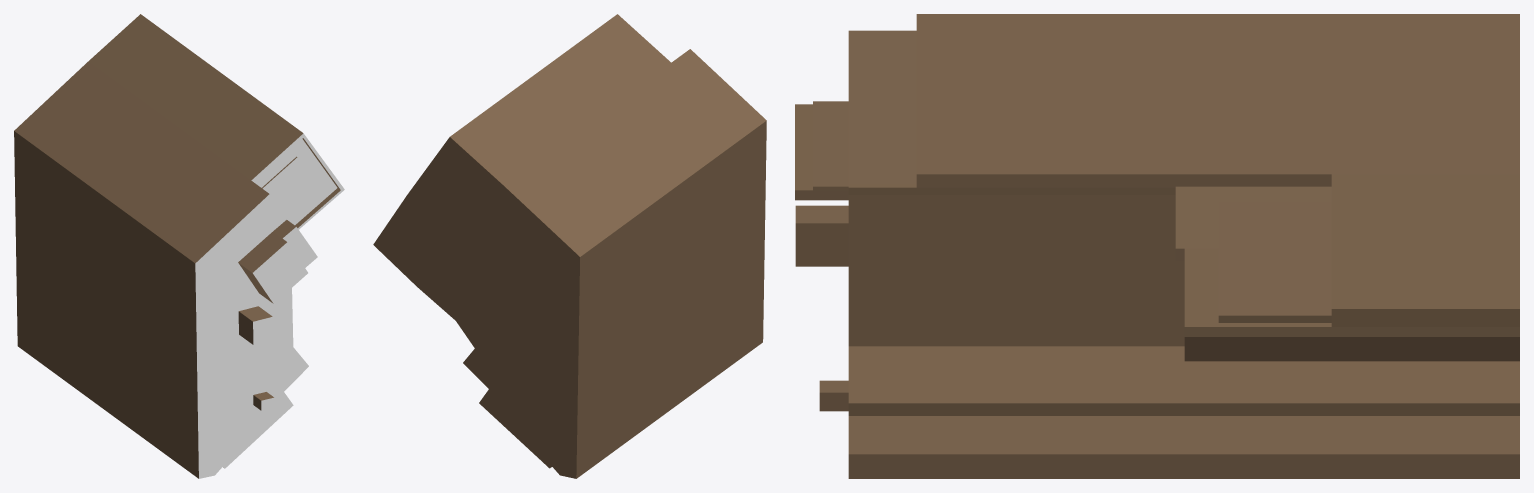
3 renders of one model, left to right at view 1: azimuth 30°, elevation 25°; view 2: azimuth 150°, elevation 25°; view 3: azimuth 270°, elevation 25°, orthographic. The views are drawn at different scales.
Parts seen in each view (by area): view 1: City_1565302; view 2: City_1565302; view 3: City_1565302.
Part boxes in pixels (left/top/right/bottom): City_1565302: left=14, top=14, right=344, bottom=478; City_1565302: left=373, top=14, right=766, bottom=478; City_1565302: left=795, top=14, right=1519, bottom=478.
Size of the model in its own units: 3143 by 4524 by 5304.
